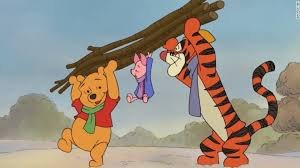Winnie: (58, 57, 122, 120)
